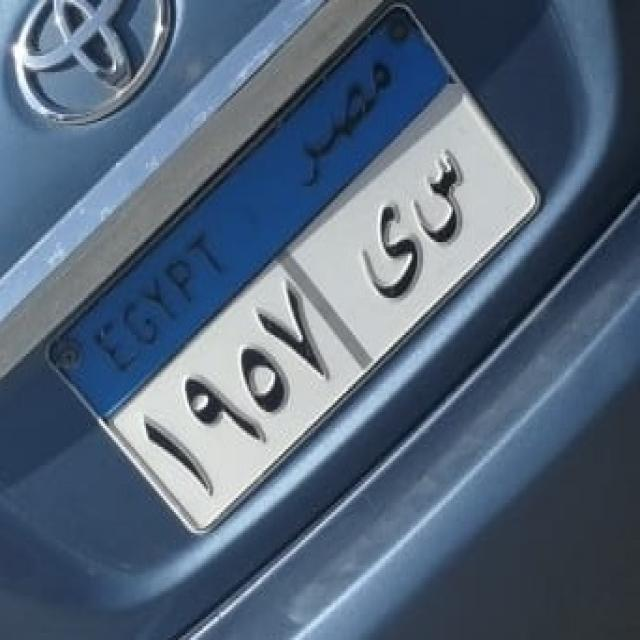1: (144, 408, 212, 499)
5: (238, 338, 292, 418)
7: (256, 272, 338, 383)
9: (185, 373, 274, 445)
Seen: (412, 126, 468, 254)
Yeeh: (349, 192, 431, 304)
